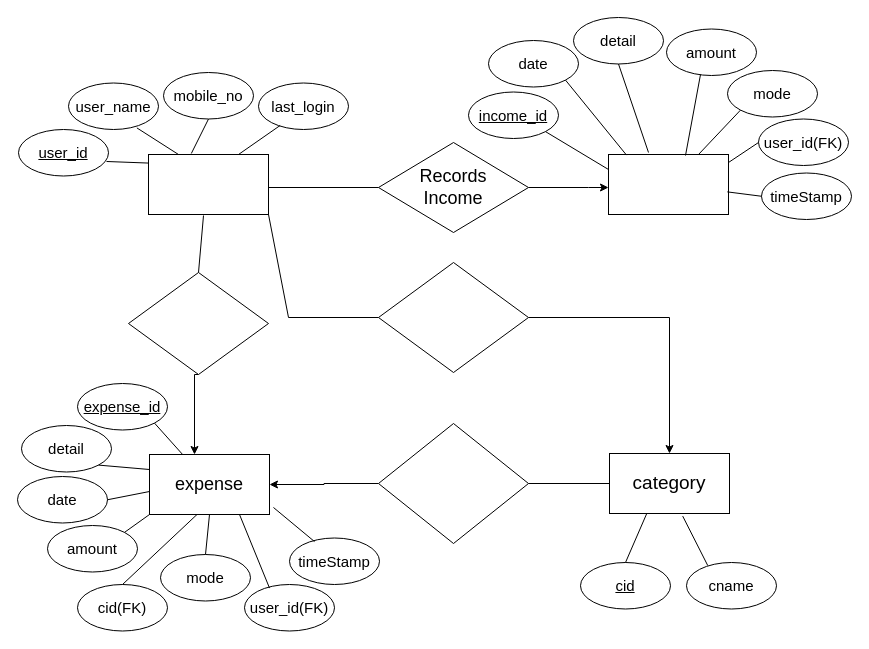
Image size: 869x649. Some labels were removed from this diagram. The centre of each missing label's shape, as x and y in pixels:
Categorizes Expenses: point (453, 483)
Creates Categories: point (453, 317)
income: point (668, 184)
Records Expenses: point (198, 323)
single user: point (208, 184)
